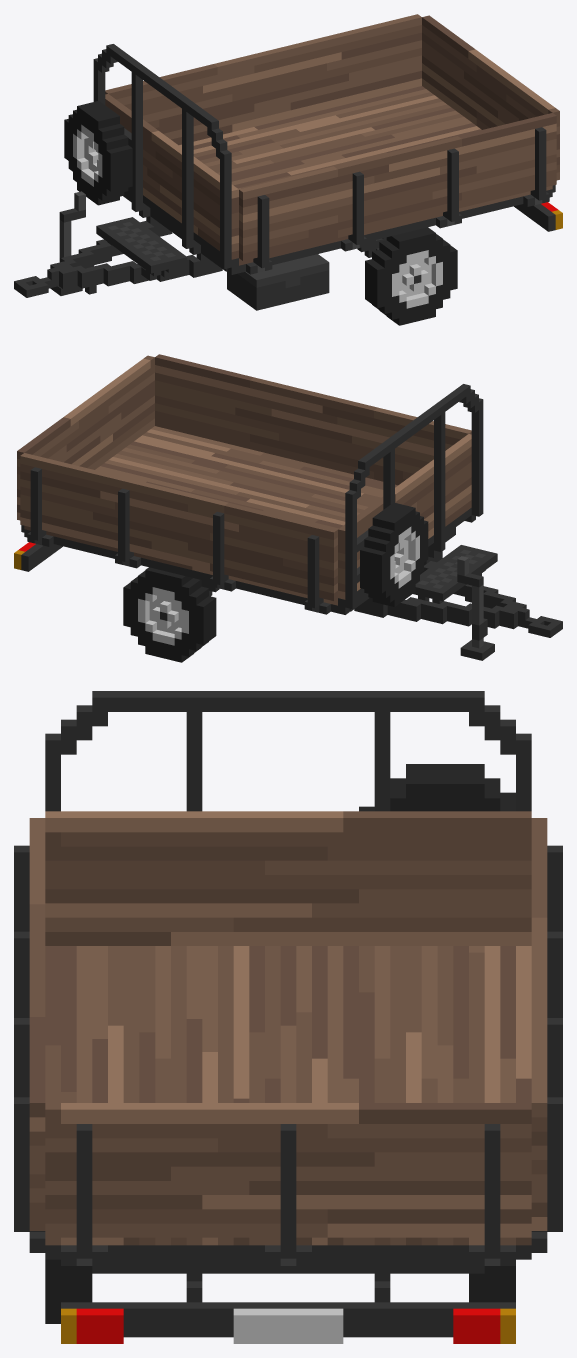
The model's file is Traktor trailer.obj.
The picture shows the model from 3 angles, top to bottom: view 1: azimuth 30°, elevation 25°; view 2: azimuth 150°, elevation 25°; view 3: azimuth 270°, elevation 25°; orthographic projection. The views are drawn at different scales.
Size of the model in its own units: 6.6 by 3.1 by 3.5.
1 material, 1 textured.
